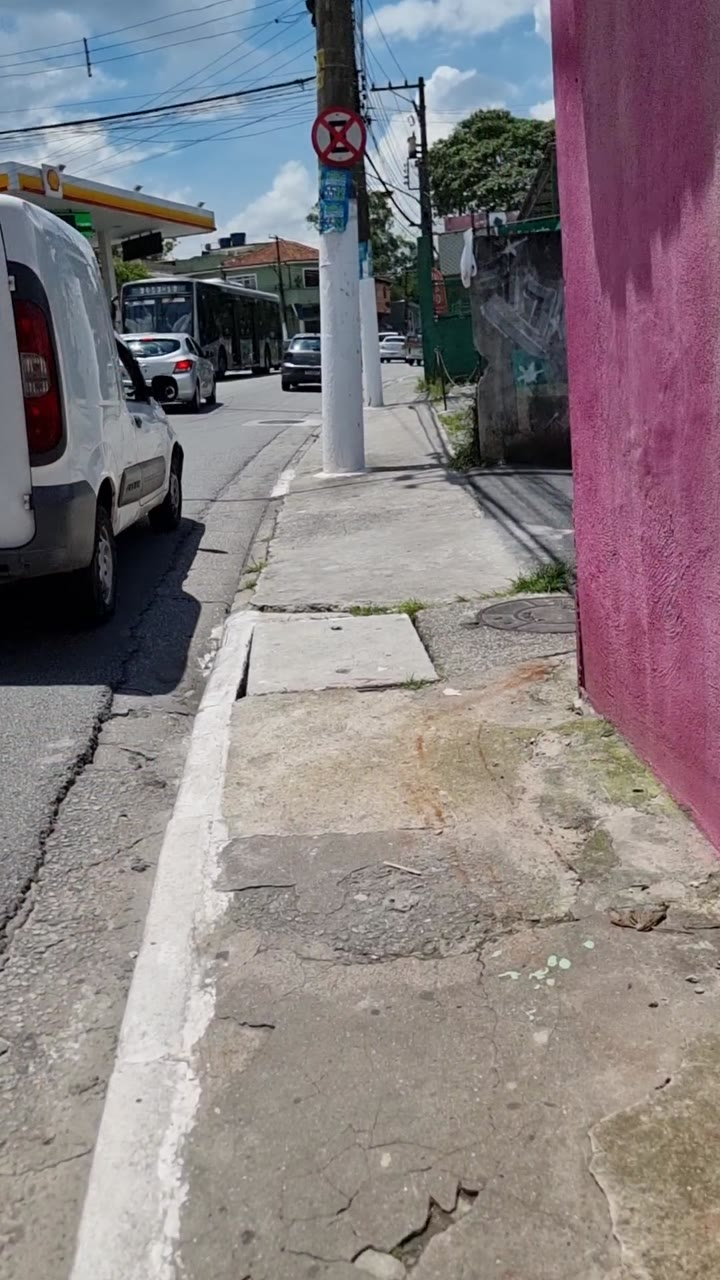desnivel: (230, 614, 432, 704)
obstaculo: (576, 0, 720, 845), (317, 0, 410, 474)
